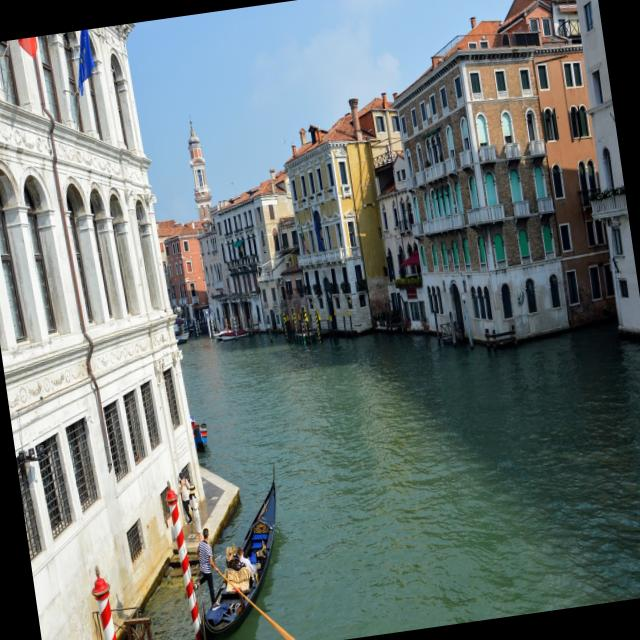boat: (170, 462, 308, 640)
